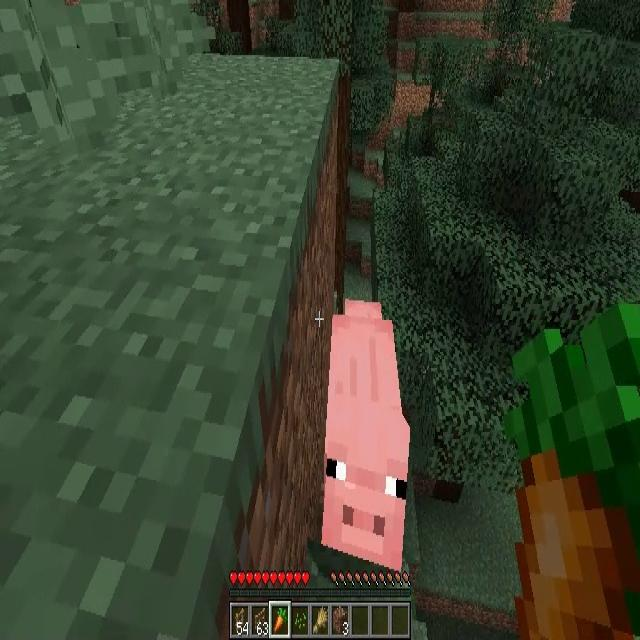pig: (326, 316, 409, 567)
